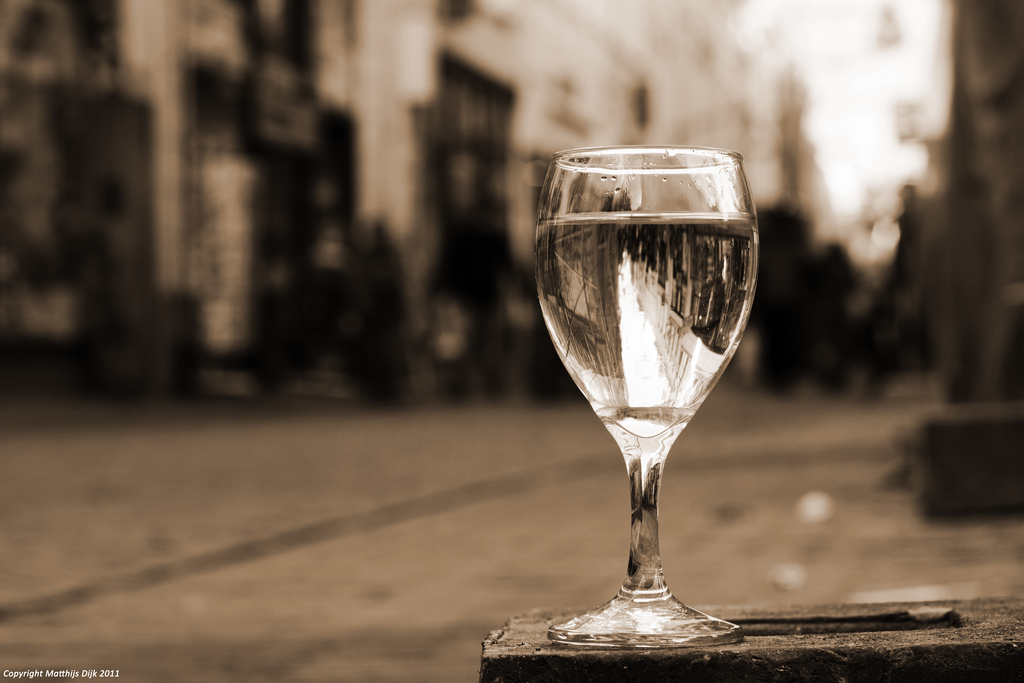glass of water: (528, 131, 760, 644)
